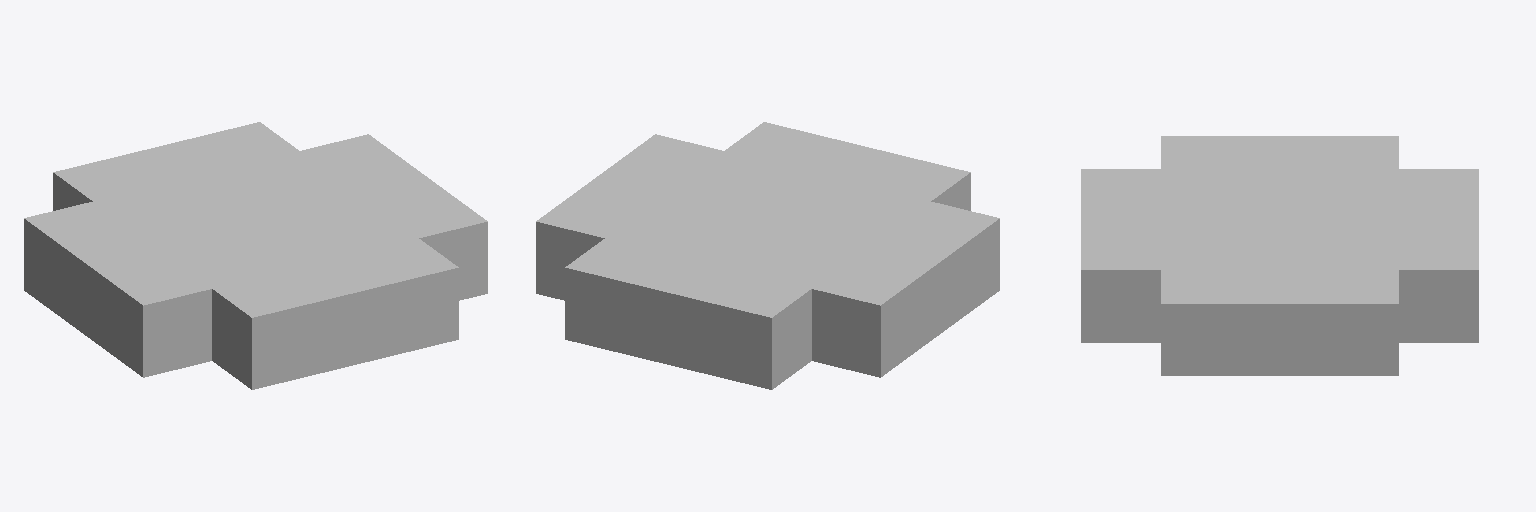
The model's file is coin.obj.
3 views of the same model, side by side, from view 1: azimuth 30°, elevation 25°; view 2: azimuth 150°, elevation 25°; view 3: azimuth 270°, elevation 25° (orthographic).
Parts seen in each view (by area): view 1: coin; view 2: coin; view 3: coin.
Boxes of the visible parts, x1=… form: coin: x1=24, y1=122, x2=487, y2=389; coin: x1=536, y1=122, x2=999, y2=389; coin: x1=1081, y1=136, x2=1478, y2=375.
Bounding box in the file's own units: 5 × 1 × 5.